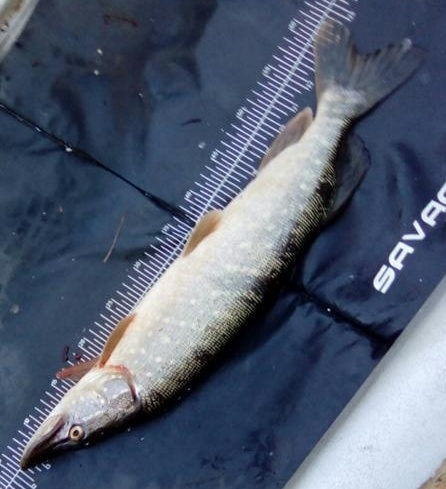Esox lucius: (20, 20, 426, 469)
